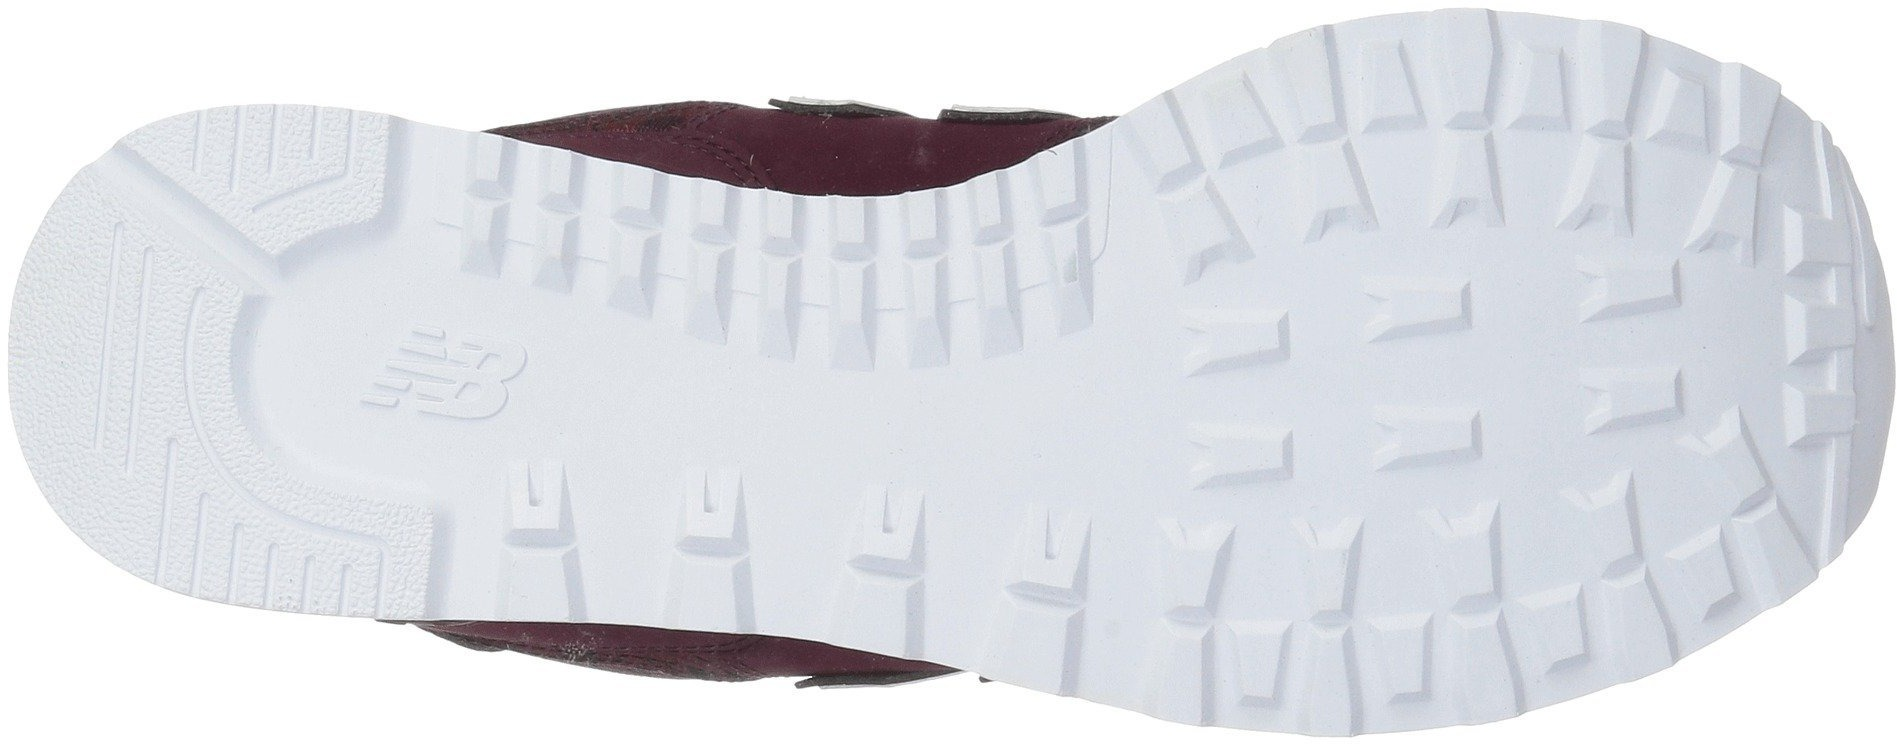exclude: (354, 617, 1020, 729)
other: (64, 270, 211, 489), (994, 354, 1176, 517), (567, 335, 713, 475), (760, 367, 906, 484)
quad: (462, 154, 593, 260), (980, 178, 1122, 270)
text: (370, 310, 535, 449)
